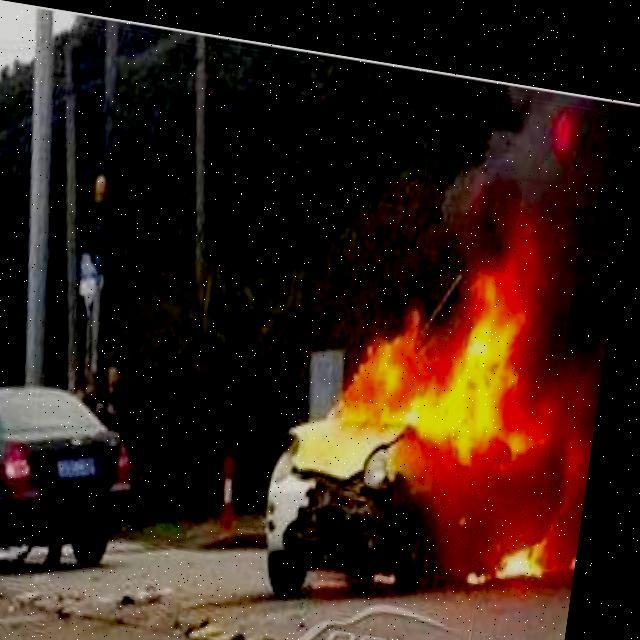Fire: (298, 206, 618, 594)
